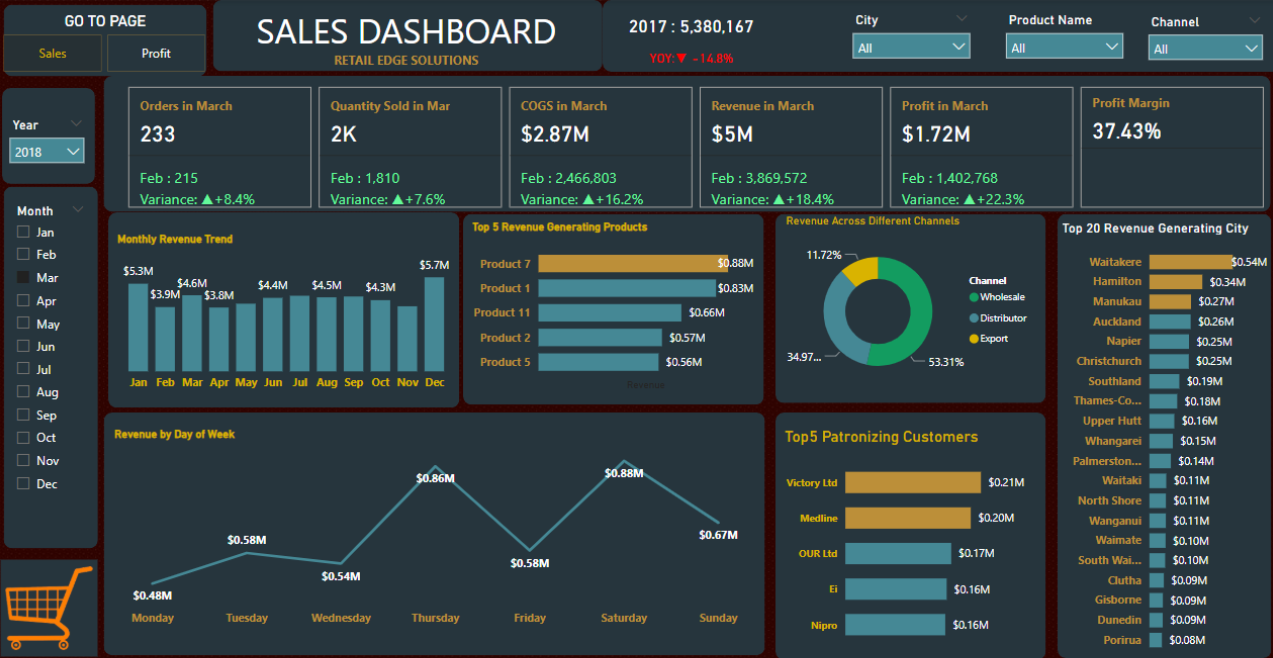

The dashboard page shown, as its layout file describes it:
{"tool":"powerbi","page":{"name":"Sales","canvas":[1400,720],"ordinal":0},"visuals":[{"type":"shape","box":[1.7,0,271.6,86.1],"z":0},{"type":"shape","box":[700.6,0,698.9,86.1],"z":1000},{"type":"shape","box":[281.5,5,409.1,81.2],"z":2000},{"type":"shape","box":[3.3,92.7,1396.1,139.1],"z":3000},{"type":"shape","box":[0,231.9,139.1,488.6],"z":4000},{"type":"shape","box":[520,236.8,351.1,240.1],"z":5000},{"type":"shape","box":[144.1,231.9,362.7,240.1],"z":6000},{"type":"shape","box":[884.4,231.9,256.7,240.1],"z":7000},{"type":"shape","box":[1156,231.9,243.5,488.6],"z":8000},{"type":"shape","box":[816.5,486.9,324.6,233.5],"z":9000},{"type":"shape","box":[144.1,486.9,665.8,233.5],"z":10000},{"type":"cardVisual","fields":{"Data":["Calculations.Total Orders","Calculations.Qty Ordered","Calculations.Revenue","Calculations.COGS","Calculations.Profit","Calculations.Profit Margin"]},"box":[3.3,86.1,1396.1,145.7],"z":11000},{"type":"slicer","fields":{"Values":["Dim_Calender.Year"]},"box":[702.2,5,168.9,76.2],"z":12000},{"type":"slicer","fields":{"Values":["Dim_Calender.Month Name"]},"box":[0,235.2,132.5,485.3],"z":13000},{"type":"clusteredColumnChart","title":"Monthly Revenue Trend","fields":{"Y":["Calculations.Revenue"],"Category":["Dim_Calender.Month Name"]},"box":[147.4,236.8,359.4,235.2],"z":14000},{"type":"clusteredBarChart","title":"Top 5 Renvenue Generating Product","fields":{"Category":["Dim_Product.Product Name"],"Y":["Calculations.Revenue"]},"box":[520,236.8,351.1,235.2],"z":15000},{"type":"donutChart","title":"Revenue Across Different  Channel","fields":{"Y":["Calculations.Revenue"],"Category":["Fact_Order.Channel"]},"box":[884.4,236.8,256.7,236.8],"z":16000},{"type":"barChart","title":"Top 20 Revenue Generating City","fields":{"Category":["Dim_Region.City"],"Y":["Calculations.Revenue"]},"box":[1156,231.9,243.5,488.6],"z":17000},{"type":"lineChart","title":"Revenue by Day of the Week","fields":{"Category":["Dim_Calender.Day of Week"],"Y":["Calculations.Revenue"]},"box":[147.4,486.9,637.6,233.5],"z":18000},{"type":"clusteredBarChart","title":"Top 5 Purchasing Customers","fields":{"Category":["Dim_Customer.Customer Names"],"Y":["Calculations.Revenue"]},"box":[816.5,486.9,324.6,233.5],"z":19000},{"type":"textbox","box":[281.5,0,409.1,81.2],"z":20000},{"type":"pageNavigator","title":"GO TO PAGE","box":[3.3,5,268.3,76.2],"z":21000},{"type":"slicer","fields":{"Values":["Dim_Region.City"]},"box":[871.1,3.3,168.9,79.5],"z":22000},{"type":"slicer","fields":{"Values":["Dim_Product.Product Name"]},"box":[1035.1,5,168.9,77.8],"z":23000},{"type":"slicer","fields":{"Values":["Fact_Order.Channel"]},"box":[1217.3,5,168.9,77.8],"z":24000}]}

Visuals, with their boxes in screenshot pixels (x1, y1, x2, y2), scaled from the page's 1400x720 canvas onto the 1273x658 screenshot:
shape: bbox=(2, 0, 249, 79)
shape: bbox=(637, 0, 1272, 79)
shape: bbox=(256, 5, 628, 79)
shape: bbox=(3, 85, 1272, 212)
shape: bbox=(0, 212, 126, 657)
shape: bbox=(473, 216, 792, 436)
shape: bbox=(131, 212, 461, 431)
shape: bbox=(804, 212, 1038, 431)
shape: bbox=(1051, 212, 1272, 657)
shape: bbox=(742, 445, 1038, 657)
shape: bbox=(131, 445, 736, 657)
cardVisual - Calculations.Total Orders x Calculations.Qty Ordered: bbox=(3, 79, 1272, 212)
slicer - Dim_Calender.Year: bbox=(639, 5, 792, 74)
slicer - Dim_Calender.Month Name: bbox=(0, 215, 120, 657)
"Monthly Revenue Trend" clusteredColumnChart: bbox=(134, 216, 461, 431)
"Top 5 Renvenue Generating Product" clusteredBarChart: bbox=(473, 216, 792, 431)
"Revenue Across Different  Channel" donutChart: bbox=(804, 216, 1038, 433)
"Top 20 Revenue Generating City" barChart: bbox=(1051, 212, 1272, 657)
"Revenue by Day of the Week" lineChart: bbox=(134, 445, 714, 657)
"Top 5 Purchasing Customers" clusteredBarChart: bbox=(742, 445, 1038, 657)
textbox: bbox=(256, 0, 628, 74)
"GO TO PAGE" pageNavigator: bbox=(3, 5, 247, 74)
slicer - Dim_Region.City: bbox=(792, 3, 946, 76)
slicer - Dim_Product.Product Name: bbox=(941, 5, 1095, 76)
slicer - Fact_Order.Channel: bbox=(1107, 5, 1260, 76)
